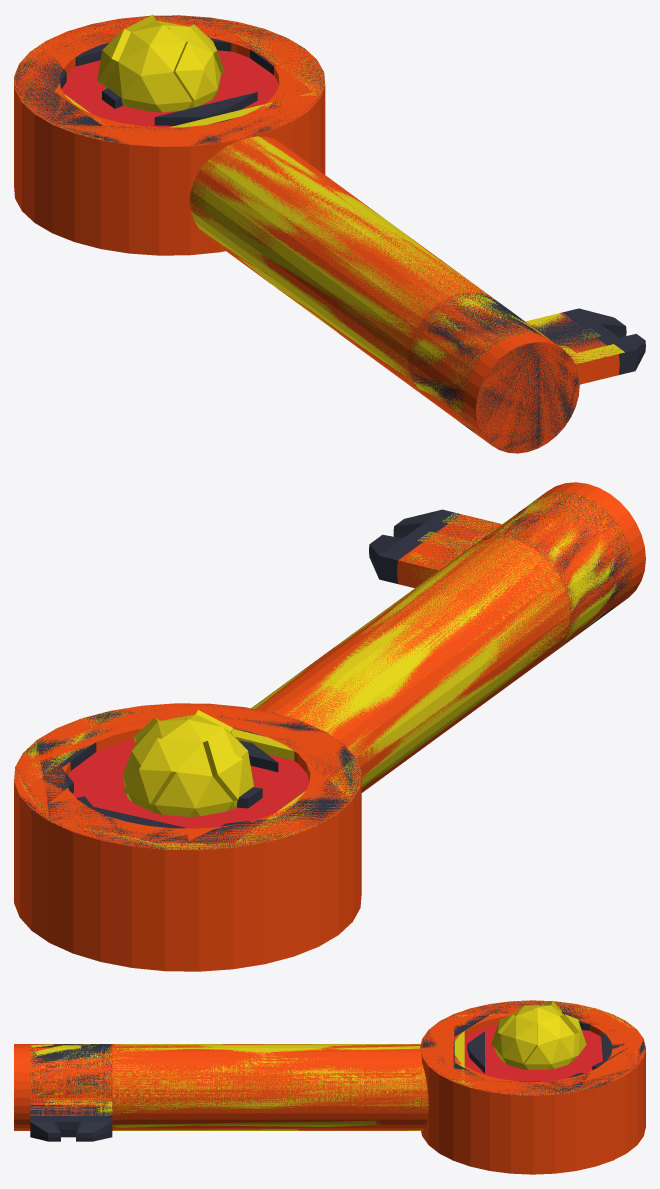
Rendered from Klúče.fbx.
3 renders of one model, top to bottom at view 1: azimuth 30°, elevation 25°; view 2: azimuth 150°, elevation 25°; view 3: azimuth 270°, elevation 25°, orthographic. The views are drawn at different scales.
Visible parts, largest first — view 1: Bronz, Gold, Silver; view 2: Bronz, Gold, Silver; view 3: Bronz, Gold, Silver.
Boxes of the visible parts, bbox=[...] form: Bronz: bbox=[14, 15, 619, 453]; Gold: bbox=[14, 14, 624, 426]; Silver: bbox=[14, 15, 645, 453]; Bronz: bbox=[14, 482, 645, 971]; Gold: bbox=[14, 492, 632, 849]; Silver: bbox=[14, 492, 632, 850]; Bronz: bbox=[14, 1000, 645, 1174]; Gold: bbox=[30, 1000, 636, 1130]; Silver: bbox=[30, 1000, 645, 1141].
Bounding box in the file's own units: 533 × 300 × 1454.
